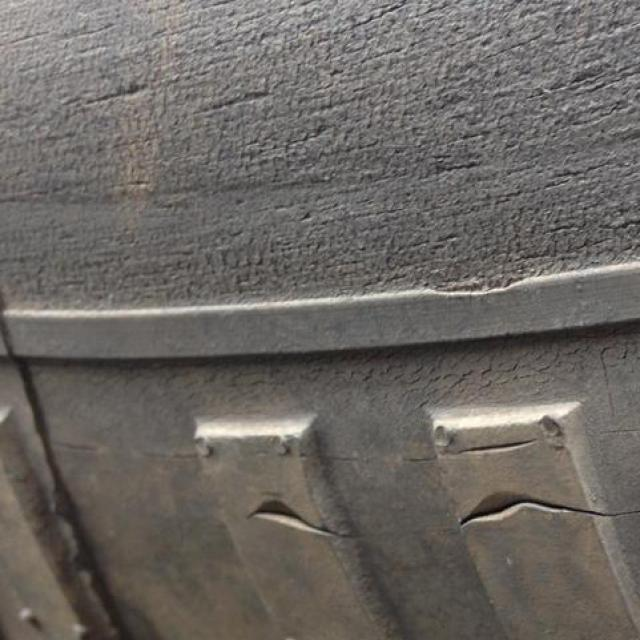Cracks: (0, 0, 638, 311), (441, 480, 639, 544), (222, 479, 364, 555), (399, 427, 555, 477)
